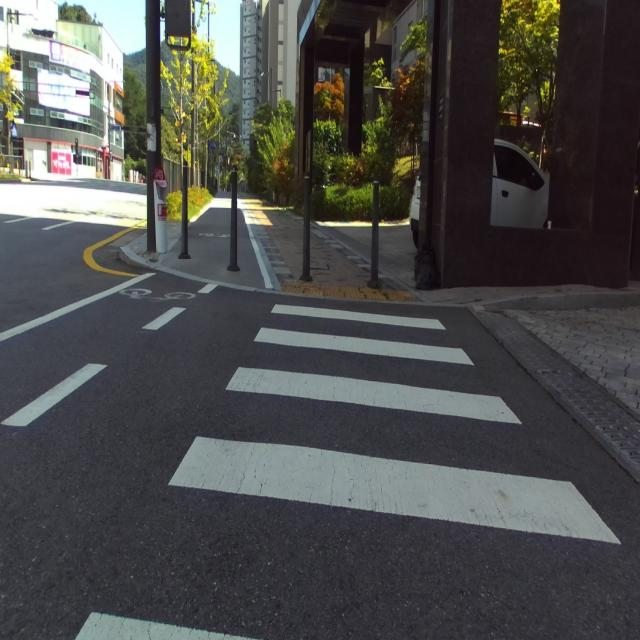횡단보도: (75, 304, 620, 640)
